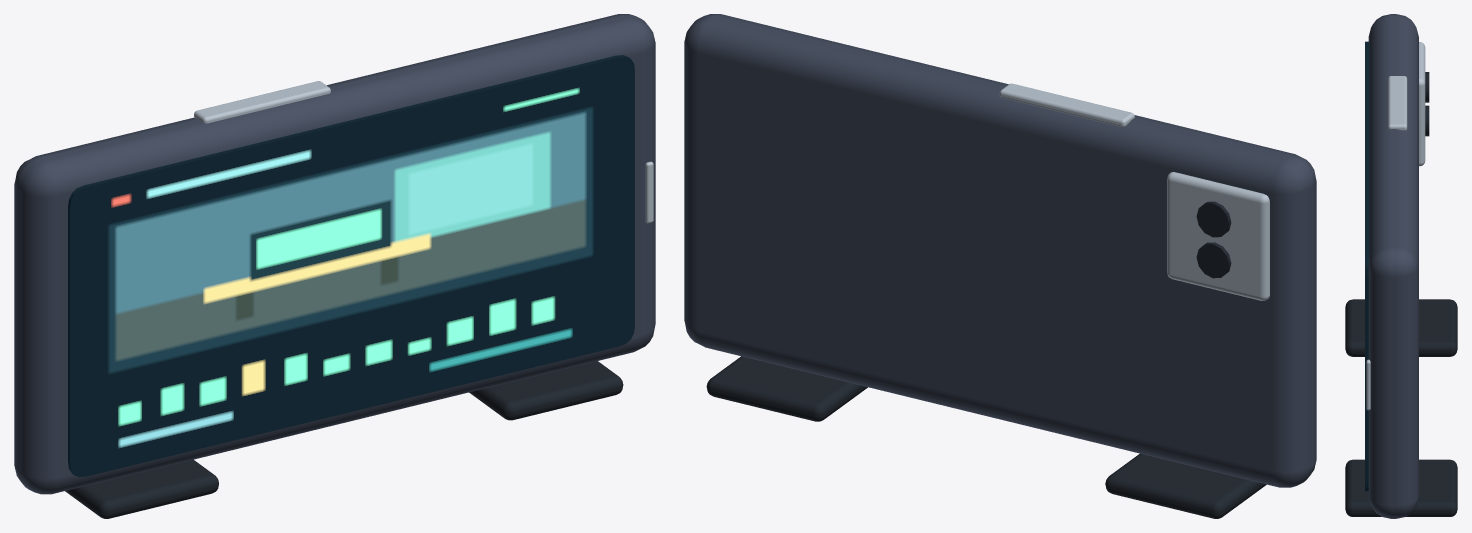
3 views of the same model, side by side, from view 1: azimuth 30°, elevation 25°; view 2: azimuth 150°, elevation 25°; view 3: azimuth 270°, elevation 25° (orthographic). The views are drawn at different scales.
Parts seen in each view (by area): view 1: phone-screen, phone-body-authored, phone-case-foot-right, phone-case-foot-left, phone-side-key; view 2: phone-body-authored, phone-camera-island, phone-case-foot-right, phone-case-foot-left, phone-side-key, phone-lens-2, phone-lens-1; view 3: phone-body-authored, phone-case-foot-right, phone-case-foot-left, phone-screen, phone-side-key, phone-camera-island, phone-speaker, phone-lens-1, phone-lens-2.
Part boxes in pixels (x1,y1,x2,y2): phone-screen: [68, 55, 634, 477]; phone-body-authored: [14, 14, 655, 494]; phone-case-foot-right: [469, 361, 623, 420]; phone-case-foot-left: [65, 459, 218, 518]; phone-side-key: [194, 81, 330, 123]; phone-body-authored: [684, 14, 1316, 487]; phone-camera-island: [1167, 172, 1269, 300]; phone-case-foot-right: [706, 356, 867, 421]; phone-case-foot-left: [1105, 453, 1266, 518]; phone-side-key: [999, 83, 1134, 126]; phone-lens-2: [1196, 201, 1231, 237]; phone-lens-1: [1196, 242, 1231, 278]; phone-body-authored: [1368, 14, 1418, 518]; phone-case-foot-right: [1345, 459, 1457, 516]; phone-case-foot-left: [1345, 299, 1457, 356]; phone-screen: [1365, 41, 1369, 491]; phone-side-key: [1388, 76, 1407, 130]; phone-camera-island: [1419, 42, 1425, 166]; phone-speaker: [1366, 359, 1370, 410]; phone-lens-1: [1425, 105, 1429, 136]; phone-lens-2: [1425, 72, 1429, 102].
Size of the model in its own units: 0.153 by 0.0821 by 0.029.
4 materials, 1 textured.
